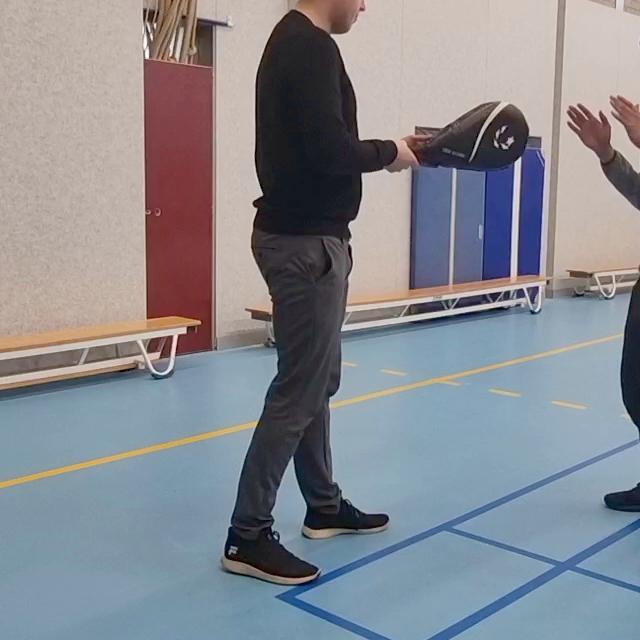paddle: (394, 92, 535, 181)
